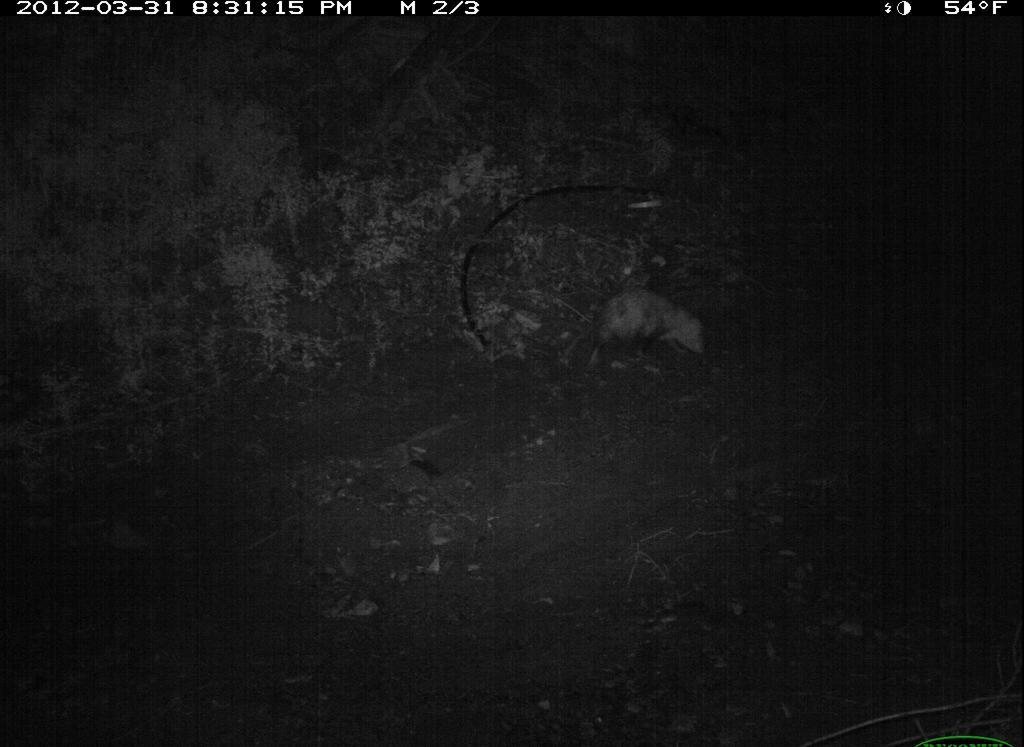opossum: (584, 283, 716, 364)
